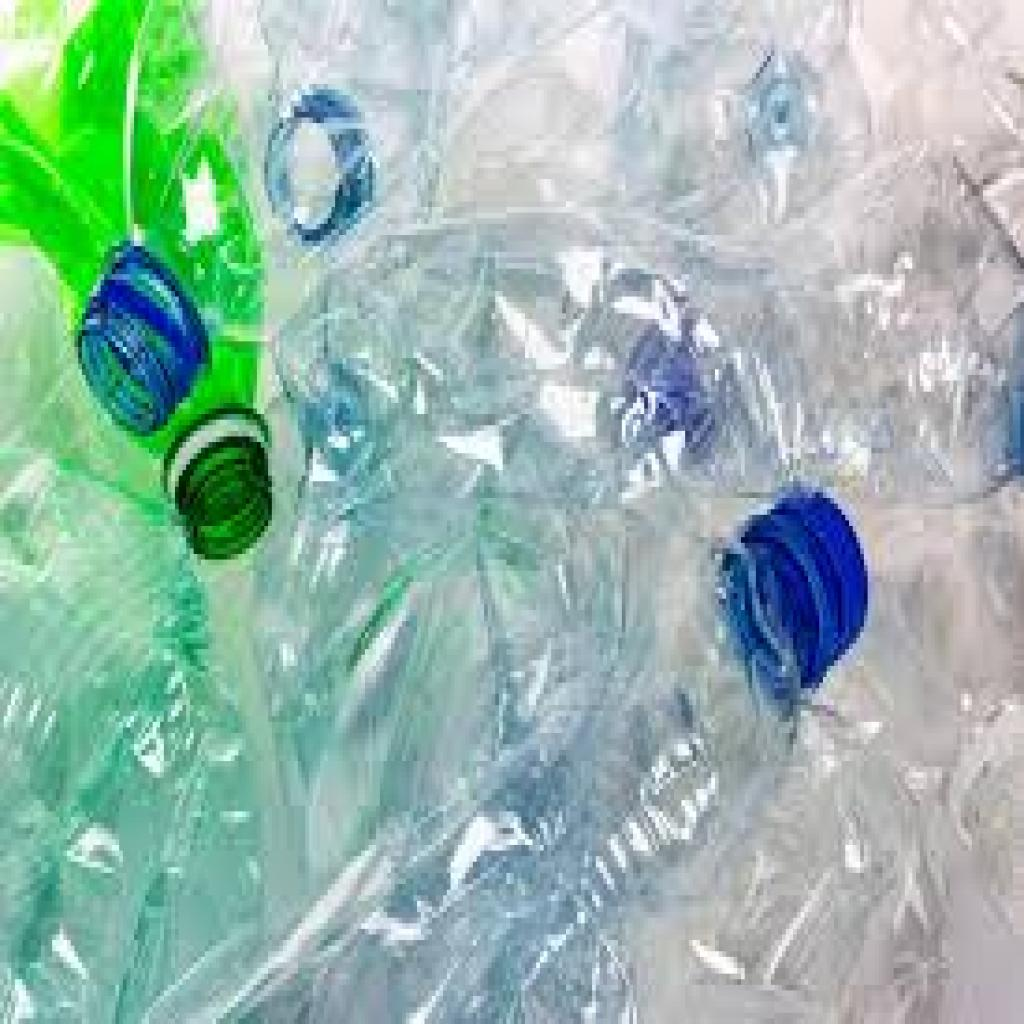plastic: (154, 498, 877, 1024), (8, 61, 315, 577)
